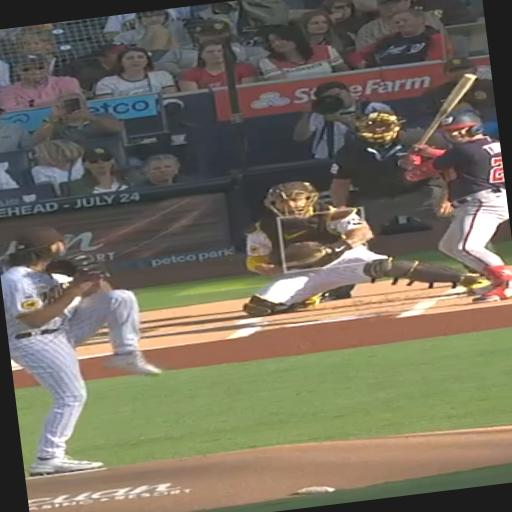bat: (418, 74, 477, 144)
